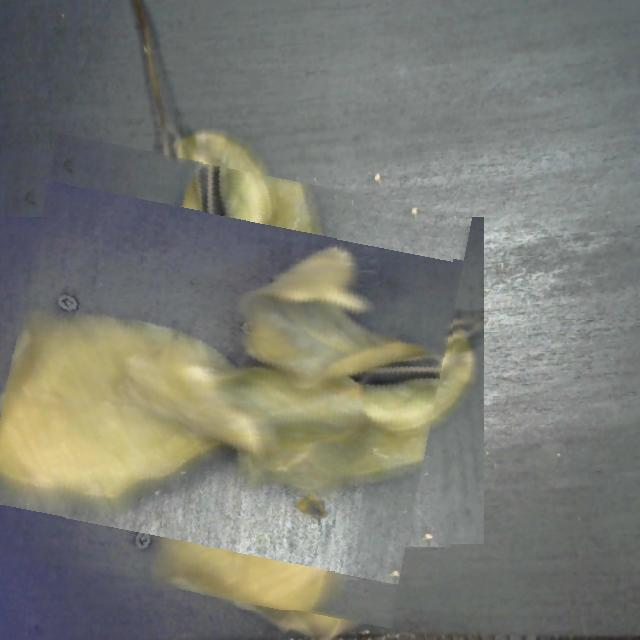biodegradable: (0, 151, 454, 610)
